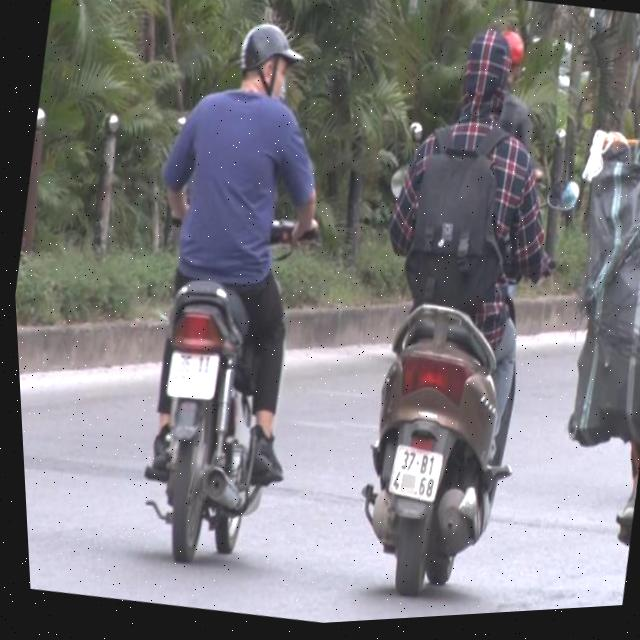motorcycle: (337, 304, 543, 619), (116, 264, 305, 584)
plate: (379, 429, 454, 513), (157, 336, 228, 412)
